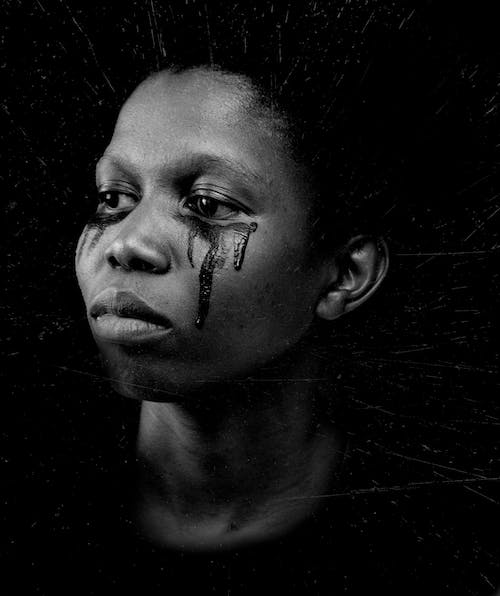blood: (166, 208, 259, 333), (73, 207, 137, 266)
